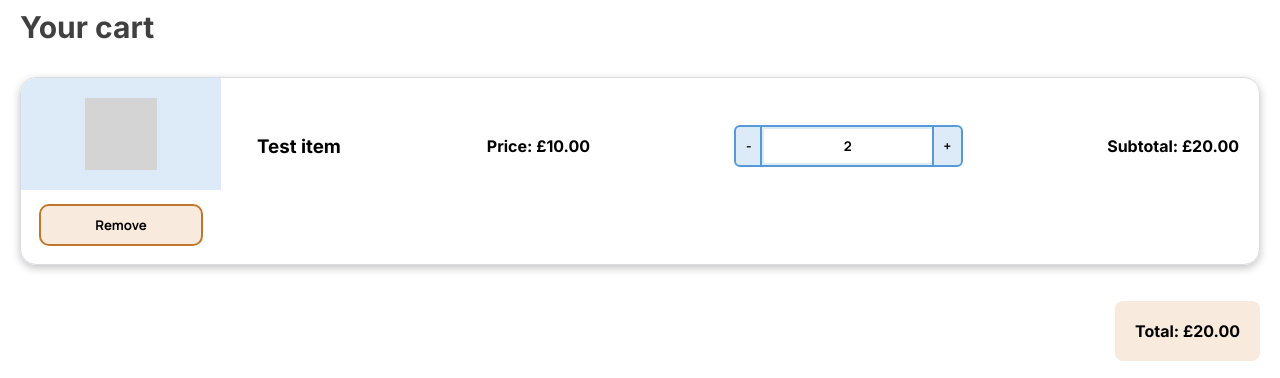
Cart component › decrease quantity button clicks and renders updated quantity
This screenshot has width=1280, height=378.
Expected: the field named "quantity, test item" holds "2", 762,127 -> 934,165
Click the button named "decrease quantity": (749, 146) 736,127 -> 762,165
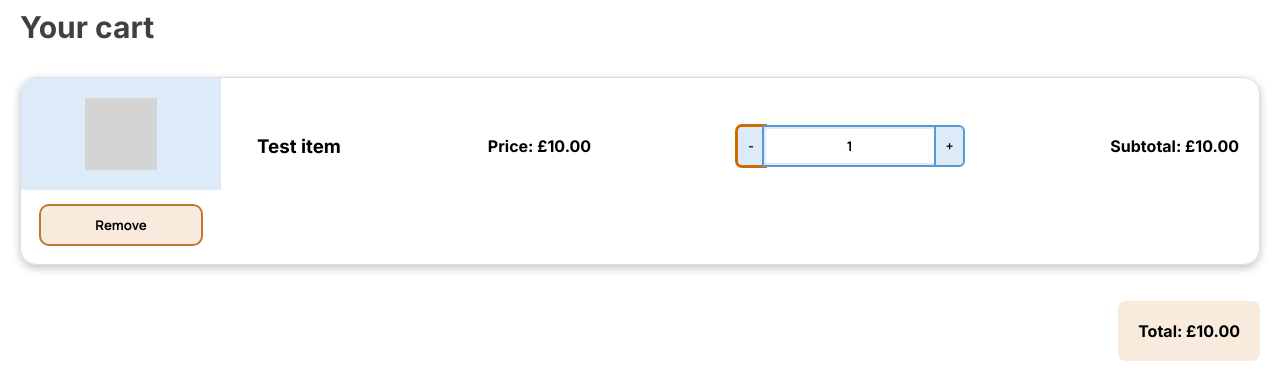
Now the field named "quantity, test item" holds "1", box 764,127 -> 936,165
